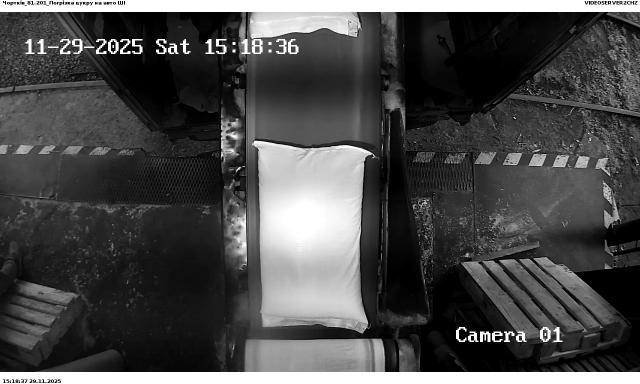bag: (252, 140, 375, 335), (250, 12, 361, 39)
